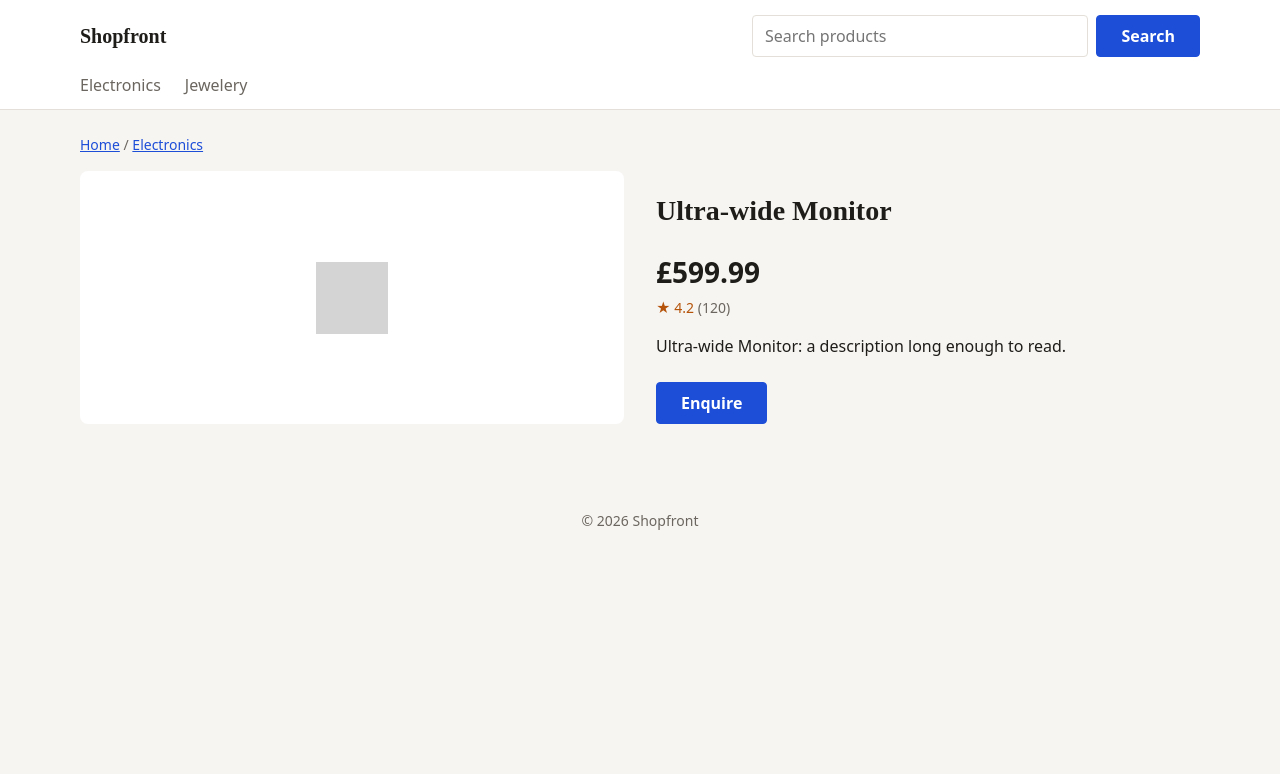
Enquiry › GIVEN I am viewing a product WHEN I submit the enquiry form THEN it is sent and I am thanked
Click the button "Enquire": (712, 403) [656,382,767,424]
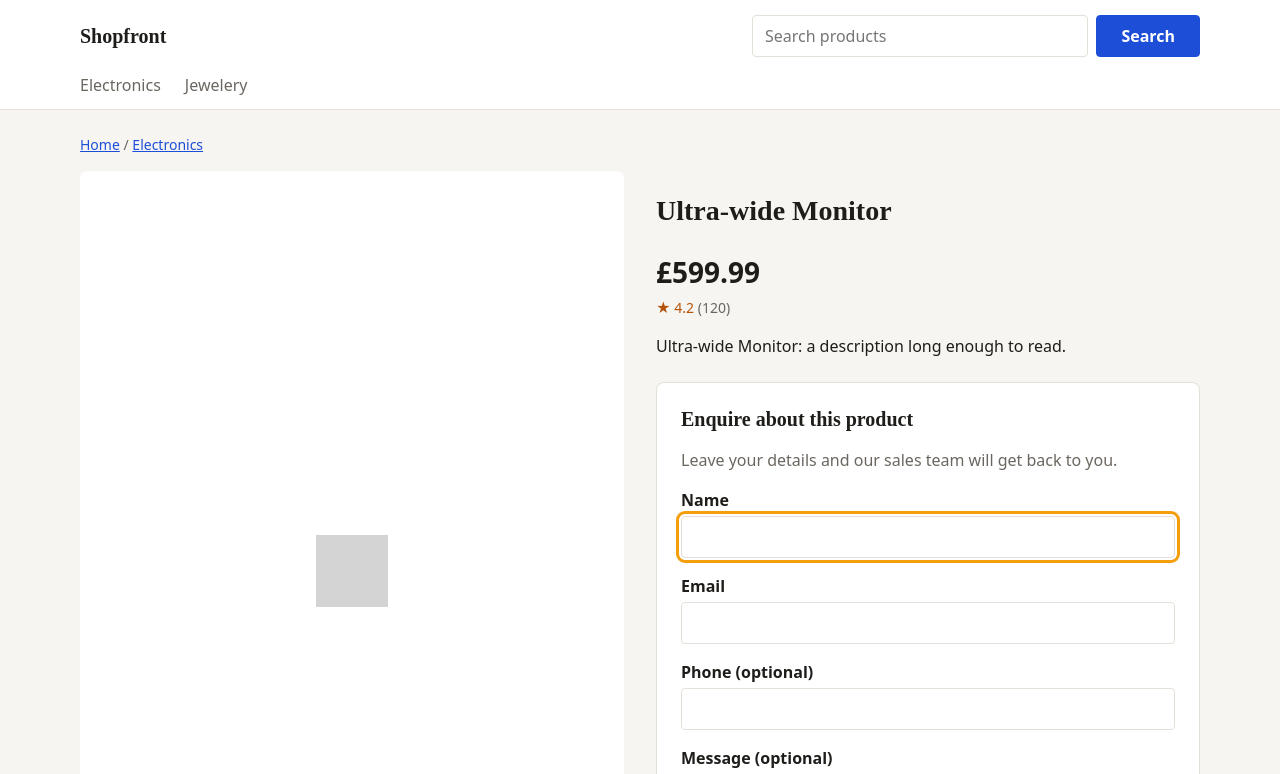
In the field labelled "Name": (928, 537) [681,516,1175,558], type "Ada Lovelace"
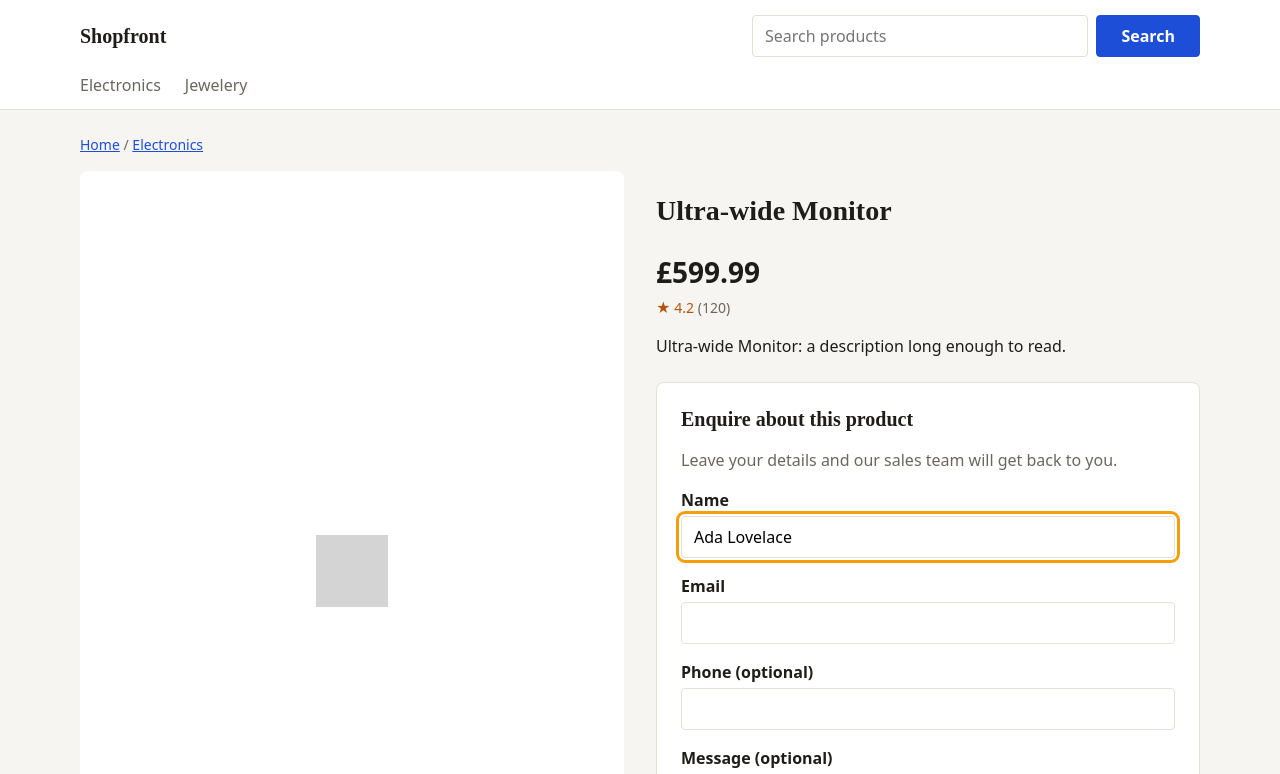
In the field labelled "Email": (928, 623) [681,602,1175,644], type "ada@example.com"
(page scrolled)
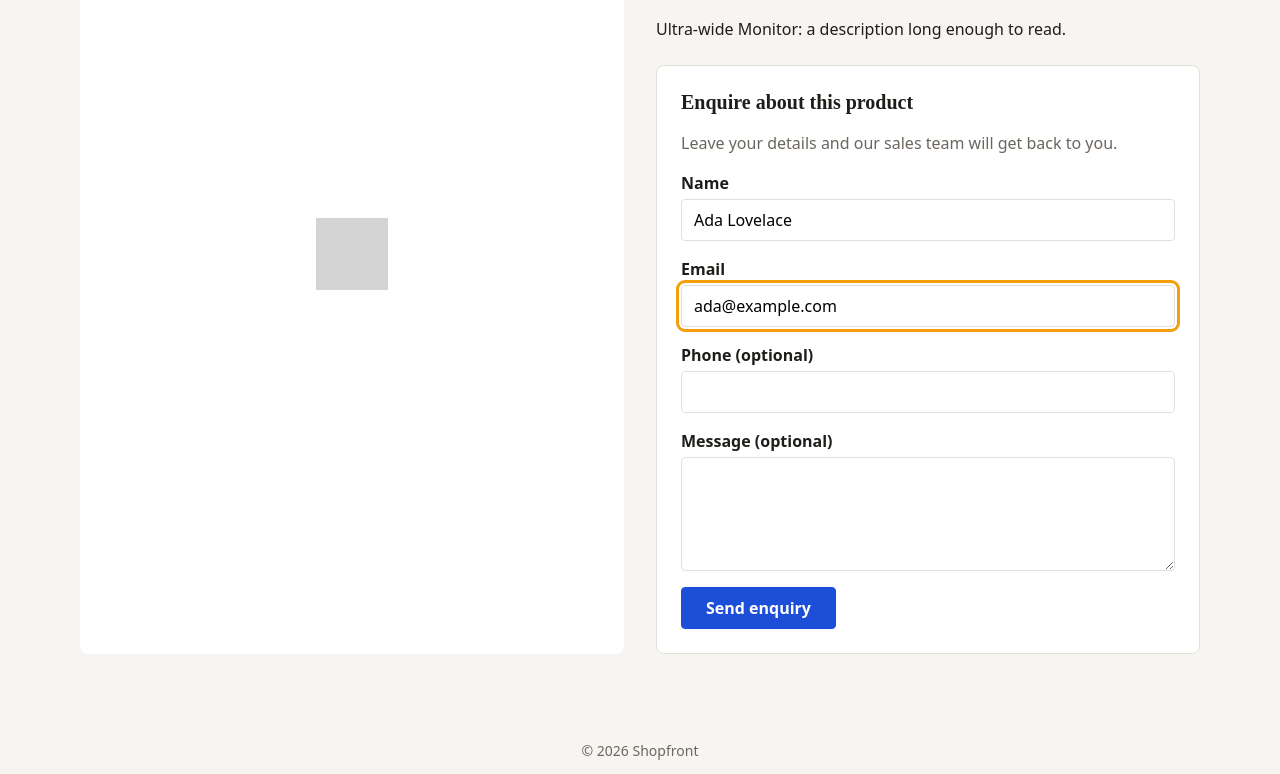
In the text box labelled "Message (optional)": (928, 514) [681,457,1175,571], type "Is it curved?"
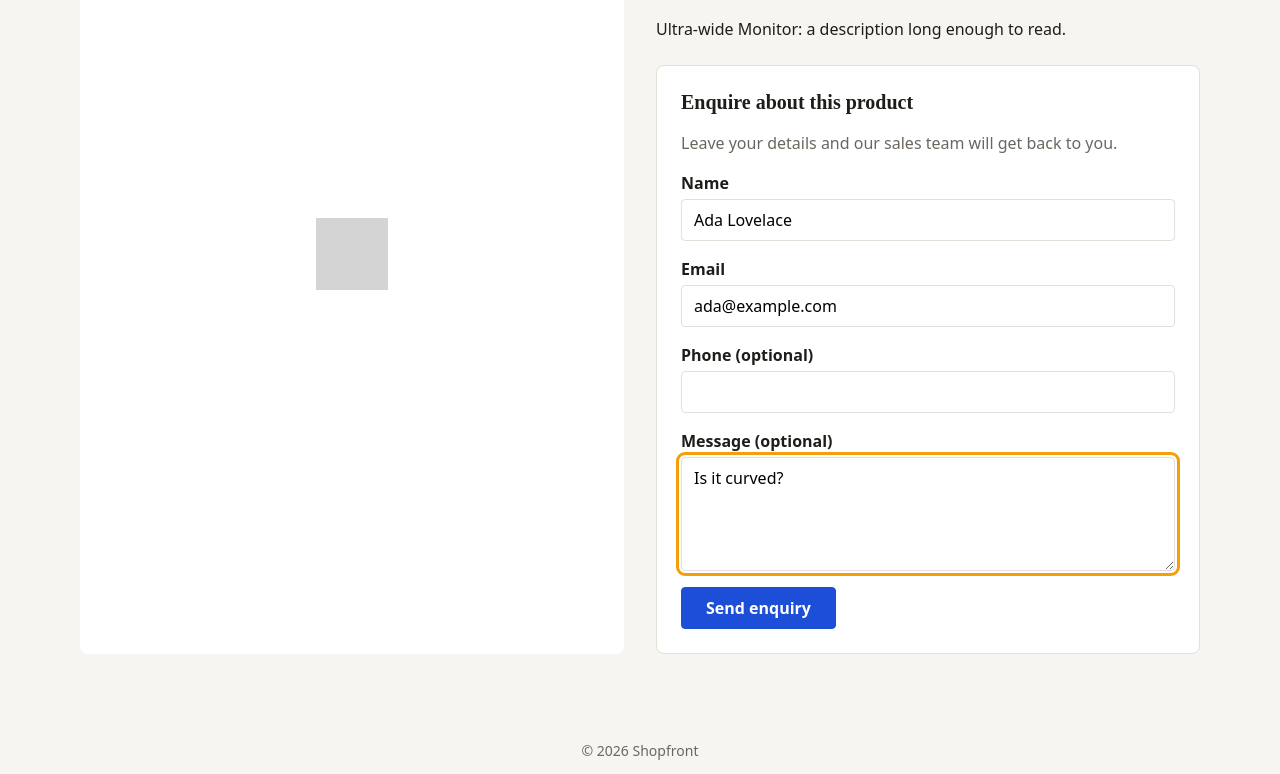
Click the button "Send enquiry": (758, 608) [681,587,836,629]
(page scrolled)
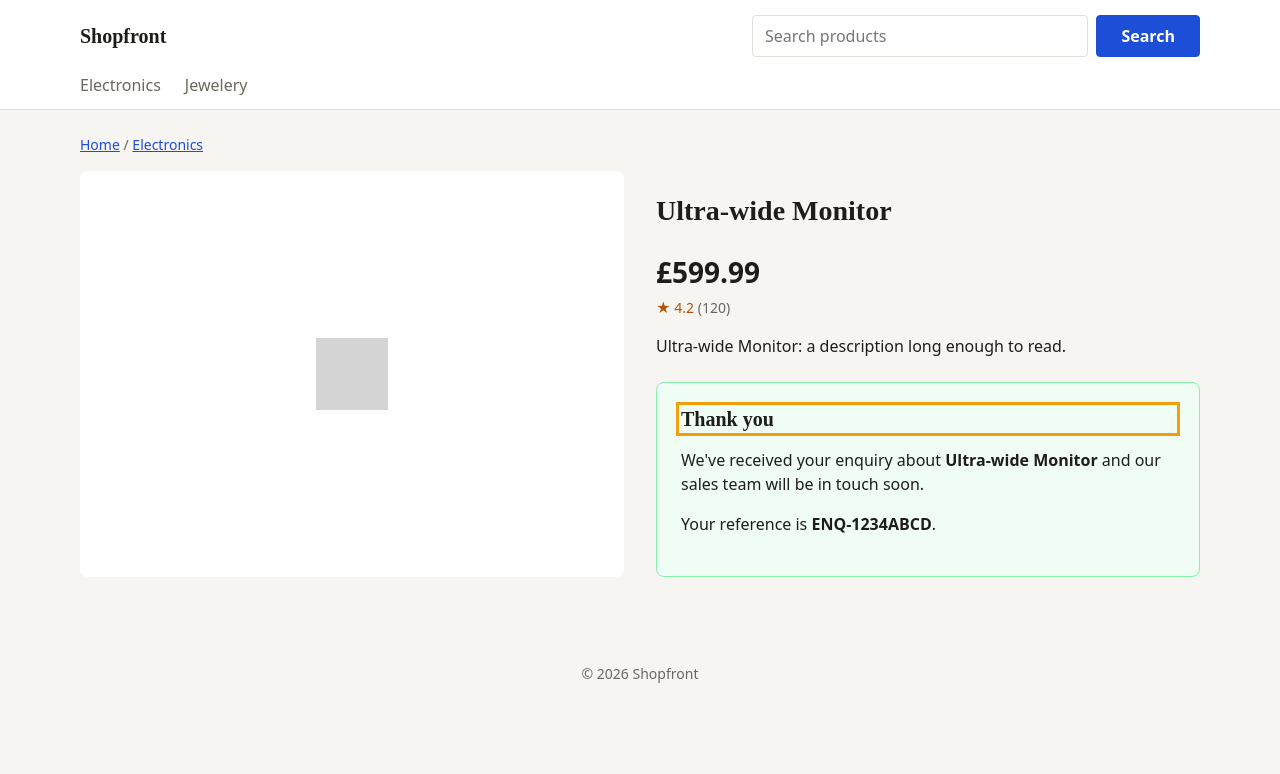
Result: the text "ENQ-1234ABCD" is shown at [812,513,932,535]
Result: the button "Send enquiry" is gone
